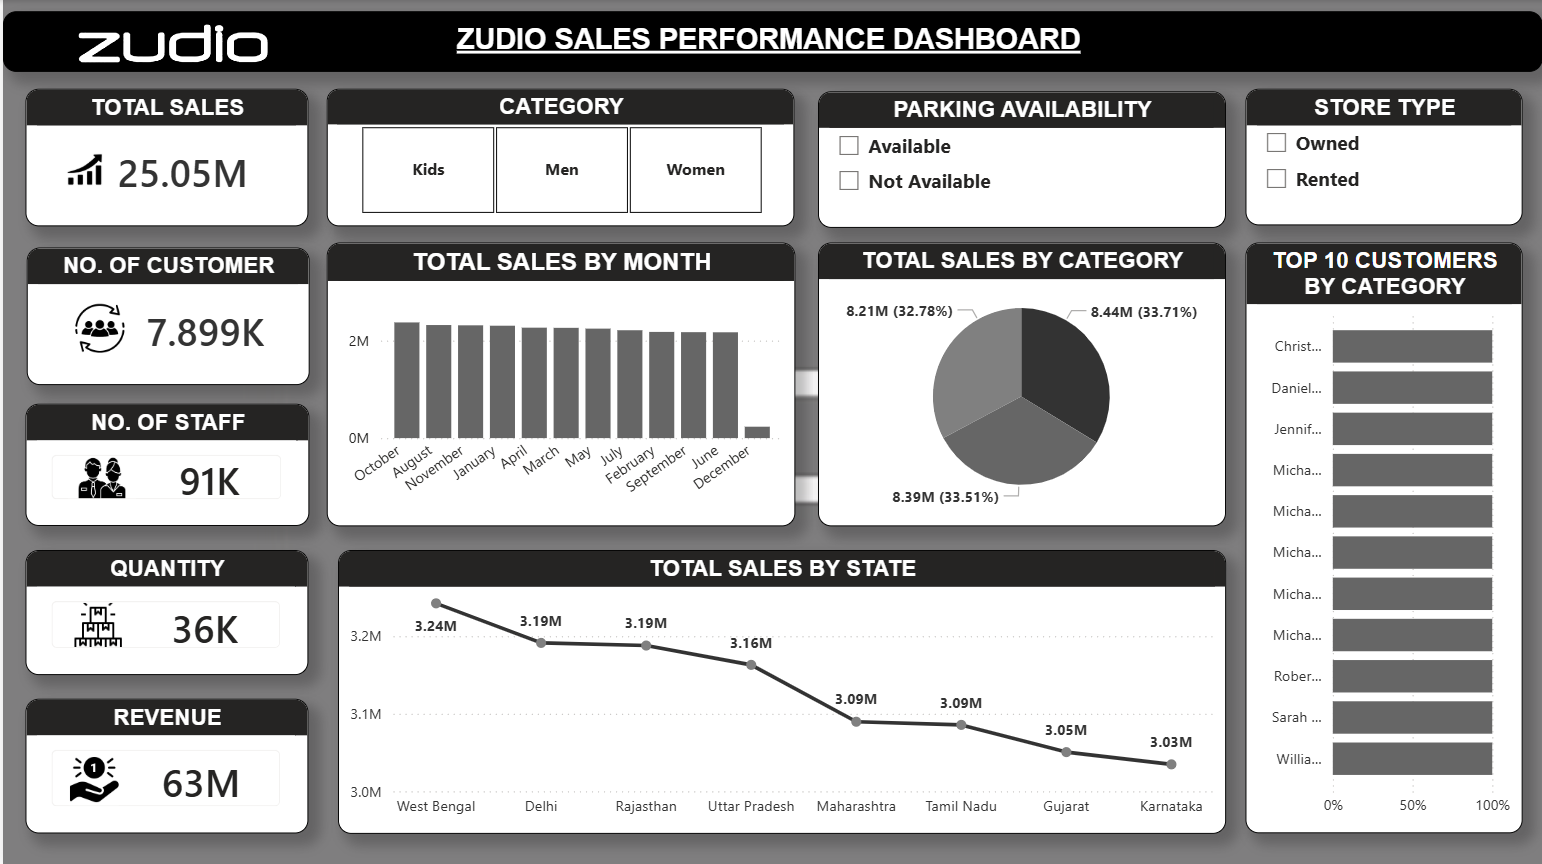

This screenshot's page, from the dashboard's own definition file:
{"tool":"powerbi","page":{"name":"Page 1","canvas":[1280,720],"ordinal":0},"visuals":[{"type":"textbox","box":[0,9.6,1280.3,50.8],"z":0},{"type":"cardVisual","title":"TOTAL SALES","fields":{"Data":["Zudio_sales_data.TotalSales"]},"box":[18.7,73.8,234.9,114.3],"z":1000},{"type":"cardVisual","title":"NO. OF CUSTOMER","fields":{"Data":["CountNonNull(Zudio_sales_data.Customer Name)"]},"box":[19.7,205.8,234.9,114.3],"z":2000},{"type":"cardVisual","title":"NO. OF STAFF","fields":{"Data":["Sum(Zudio_sales_data.Staff Count)"]},"box":[18.7,335.7,235.9,101.8],"z":3000},{"type":"cardVisual","title":" QUANTITY","fields":{"Data":["Sum(Zudio_sales_data.Quantity)"]},"box":[18.7,457.3,234.9,103.9],"z":4000},{"type":"cardVisual","title":"REVENUE","fields":{"Data":["Zudio_sales_data.TotalRevenue"]},"box":[18.7,580.9,234.9,112.2],"z":5000},{"type":"slicer","title":"CATEGORY","fields":{"Values":["Zudio_sales_data.Category"]},"box":[269.4,74.1,389.1,114],"z":6000},{"type":"slicer","title":"PARKING AVAILABILITY","fields":{"Values":["Zudio_sales_data.Parking Availability"]},"box":[677.9,75.5,338.9,113.9],"z":7000},{"type":"slicer","title":"STORE TYPE","fields":{"Values":["Zudio_sales_data.Store Type"]},"box":[1033.3,74.1,230.5,113.9],"z":8000},{"type":"clusteredColumnChart","title":"TOTAL SALES BY MONTH","fields":{"Y":["Zudio_sales_data.TotalSales"],"Category":["Zudio_sales_data.Month"]},"box":[269,201.7,389.7,236],"z":9000},{"type":"pieChart","title":"TOTAL SALES BY CATEGORY","fields":{"Y":["Zudio_sales_data.TotalSales"],"Category":["Zudio_sales_data.Category"]},"box":[677.9,201.7,338.9,236],"z":10000},{"type":"lineChart","title":"TOTAL SALES BY STATE","fields":{"Y":["Zudio_sales_data.TotalSales"],"Category":["Zudio_sales_data.State"]},"box":[278.6,456.9,738.3,236],"z":11000},{"type":"hundredPercentStackedBarChart","title":"TOP 10 CUSTOMERS  BY CATEGORY","fields":{"Category":["Zudio_sales_data.Customer Name"],"Y":["CountNonNull(Zudio_sales_data.Category)"]},"box":[1033.3,201.7,230.5,491.3],"z":12000},{"type":"cardVisual","fields":{"Data":["Min(Zudio_sales_data.Store)"]},"box":[0,0,246.3,73.8],"z":12001}]}

Visuals, with their boxes in screenshot pixels (x1, y1, x2, y2), scaled from the page's 1280x720 canvas onto the 1542x864 screenshot:
textbox: select_region(0, 12, 1541, 72)
"TOTAL SALES" cardVisual: select_region(23, 89, 306, 226)
"NO. OF CUSTOMER" cardVisual: select_region(24, 247, 307, 384)
"NO. OF STAFF" cardVisual: select_region(23, 403, 307, 525)
" QUANTITY" cardVisual: select_region(23, 549, 306, 673)
"REVENUE" cardVisual: select_region(23, 697, 306, 832)
"CATEGORY" slicer: select_region(325, 89, 793, 226)
"PARKING AVAILABILITY" slicer: select_region(817, 91, 1225, 227)
"STORE TYPE" slicer: select_region(1245, 89, 1522, 226)
"TOTAL SALES BY MONTH" clusteredColumnChart: select_region(324, 242, 794, 525)
"TOTAL SALES BY CATEGORY" pieChart: select_region(817, 242, 1225, 525)
"TOTAL SALES BY STATE" lineChart: select_region(336, 548, 1225, 831)
"TOP 10 CUSTOMERS  BY CATEGORY" hundredPercentStackedBarChart: select_region(1245, 242, 1522, 832)
cardVisual - Min(Zudio_sales_data.Store): select_region(0, 0, 297, 89)
